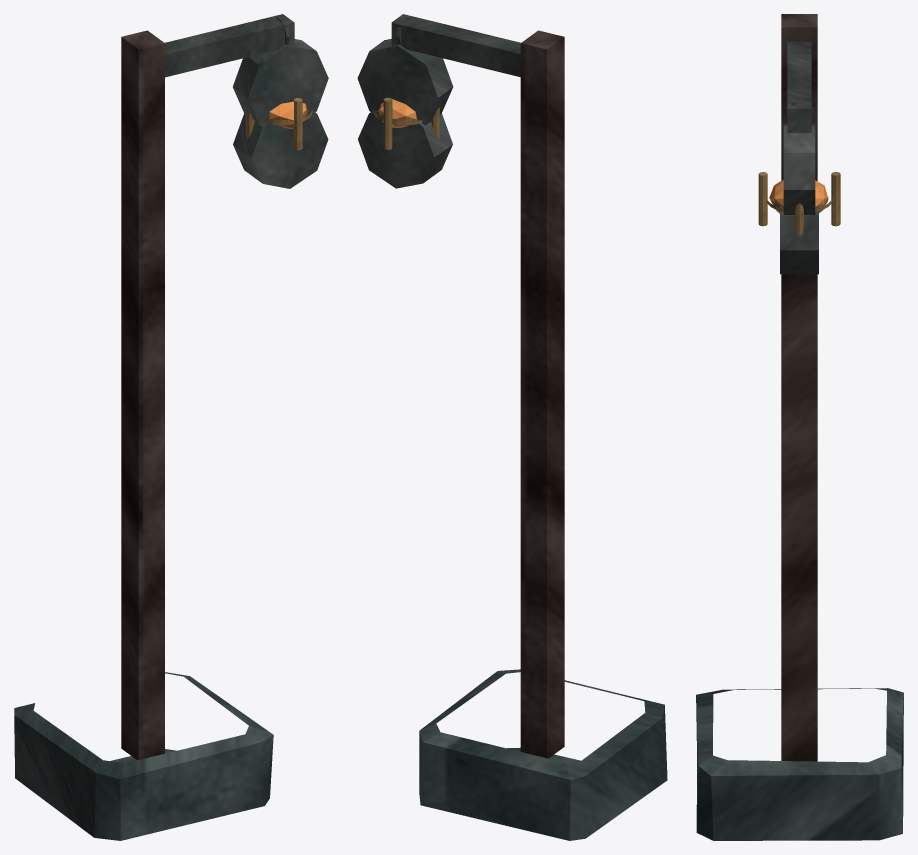
The model's file is 0710_lantern_post_10.glb.
3 renders of one model, left to right at view 1: azimuth 30°, elevation 25°; view 2: azimuth 150°, elevation 25°; view 3: azimuth 270°, elevation 25°, orthographic. The views are drawn at different scales.
Visible parts, largest first — view 1: wood_dark, stone_dark, iron, brass; view 2: wood_dark, stone_dark, iron, brass; view 3: wood_dark, stone_dark, iron, brass, amber.
Boxes of the visible parts, x1,y1,x2,y2 form: wood_dark: (121,30,164,760); stone_dark: (14,672,273,840); iron: (165,14,328,188); brass: (246,98,312,150); wood_dark: (520,30,564,758); stone_dark: (419,669,667,840); iron: (357,14,520,188); brass: (373,97,439,149); wood_dark: (781,14,817,761); stone_dark: (696,688,903,840); iron: (780,41,818,274); brass: (758,172,840,236); amber: (769,179,827,213).
Size of the model in its own units: 1.31 by 3.56 by 0.8577.
Materials: 5 (5 with a texture image).
